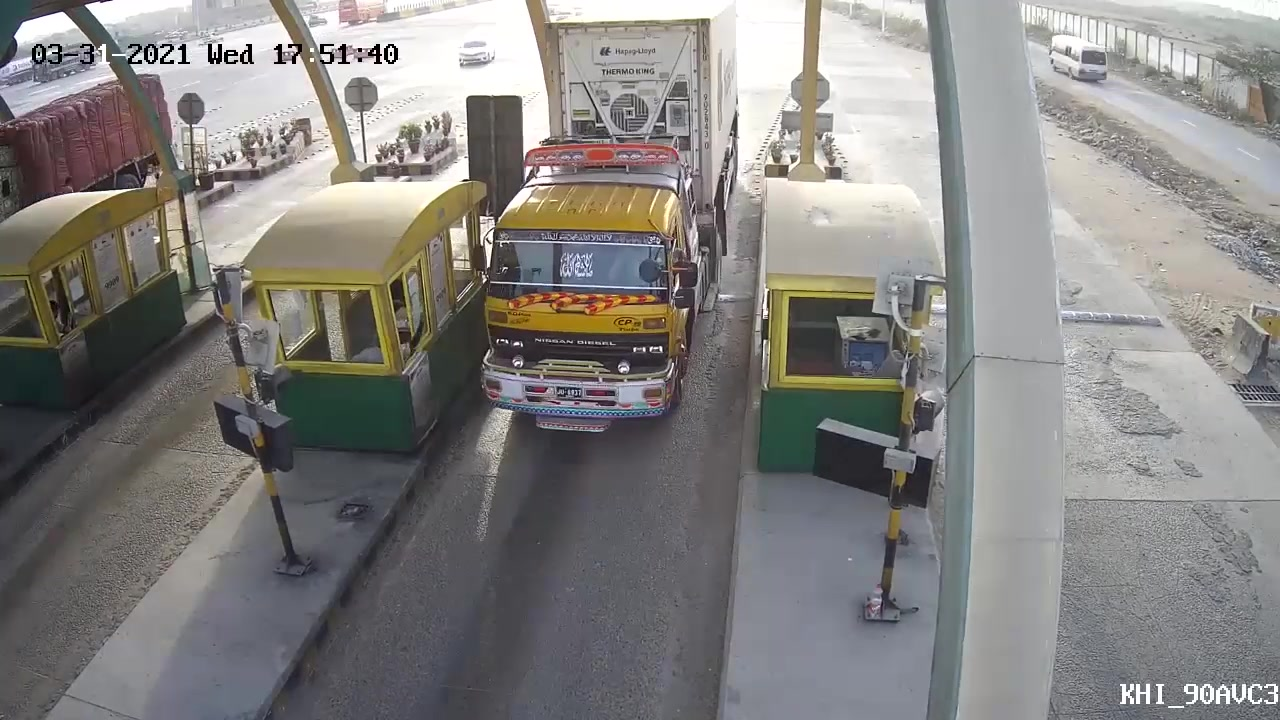F6: (461, 1, 747, 454)
